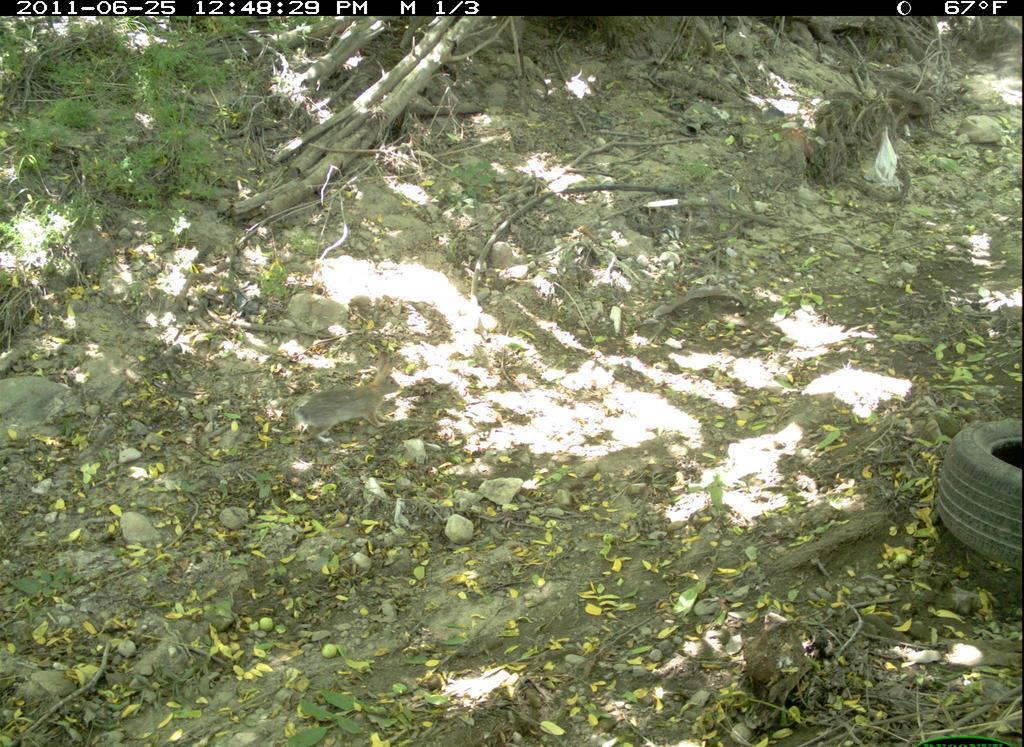rabbit: (283, 341, 417, 454)
